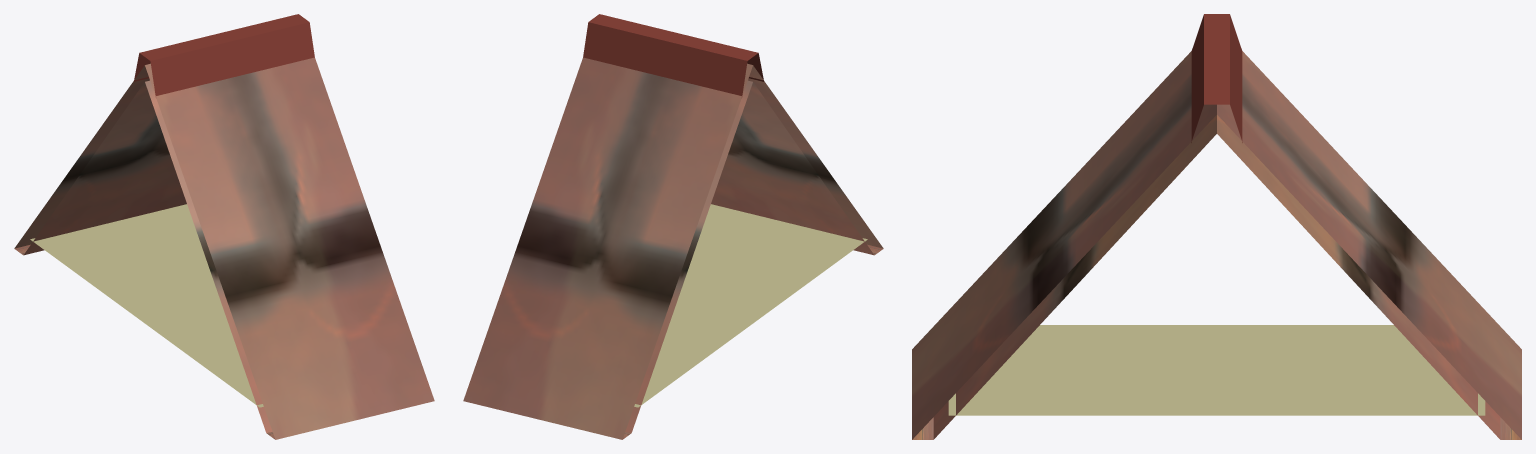
Rendered from roof_10x6x4.fbx.
The picture shows the model from 3 angles, left to right: view 1: azimuth 30°, elevation 25°; view 2: azimuth 150°, elevation 25°; view 3: azimuth 270°, elevation 25°; orthographic projection. The views are drawn at different scales.
Parts seen in each view (by area): view 1: roof_10x6x4; view 2: roof_10x6x4; view 3: roof_10x6x4.
Part boxes in pixels (x1,y1,x2,y2): roof_10x6x4: (14,14,434,439); roof_10x6x4: (463,14,883,439); roof_10x6x4: (912,14,1521,439).
Bounding box in the file's own units: 400 × 690 × 1137.
